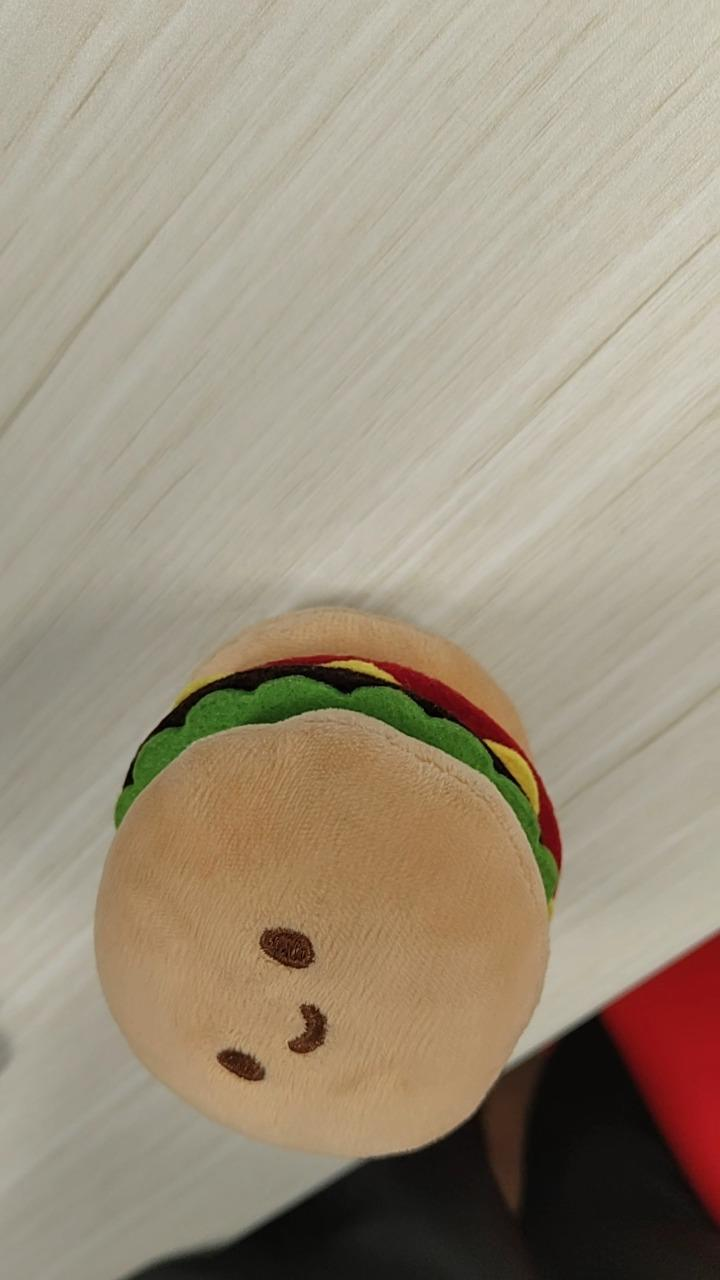hamburger: (92, 603, 564, 1160)
